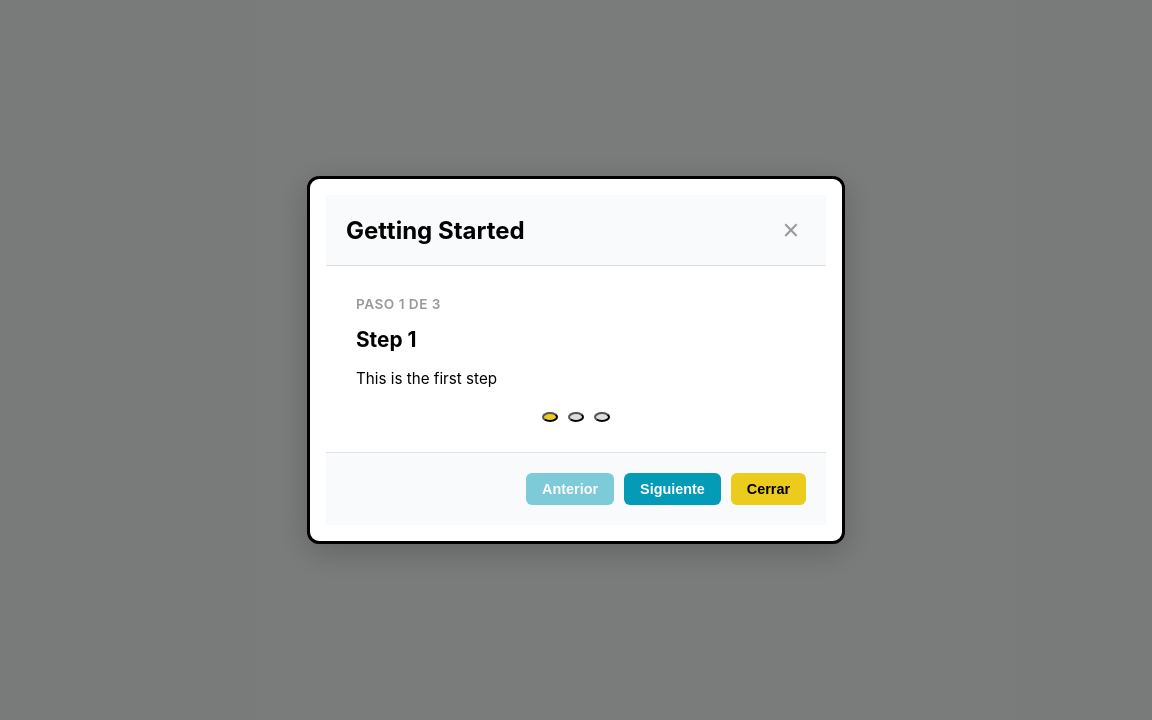
Test: HelpModal › clicking step dot navigates to that step
Click the button named "go to step" at [602, 417], box x1=594 y1=412 x2=610 y2=422
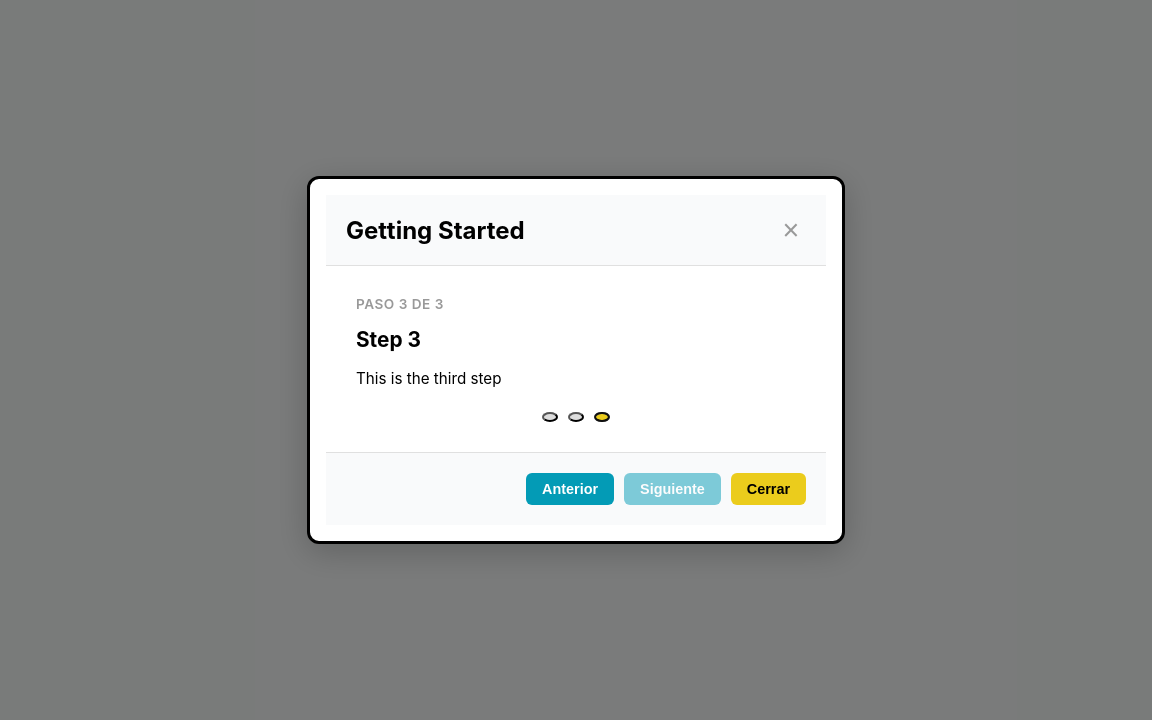
Expected: the text "Paso 3 de 3" is shown, x1=356 y1=296 x2=444 y2=312
Expected: the heading "Step 3" is shown, x1=356 y1=327 x2=421 y2=352
